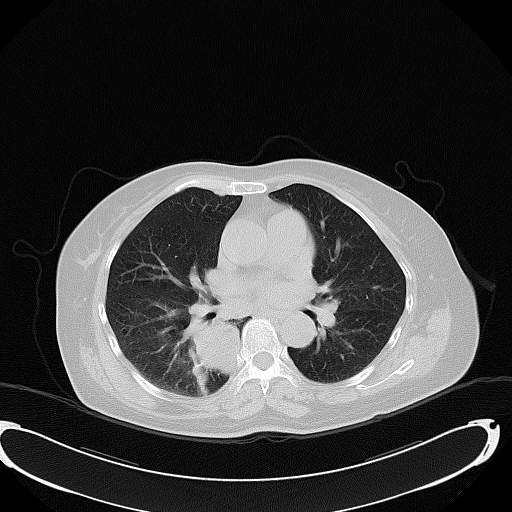nodule: (192, 321, 240, 376)
